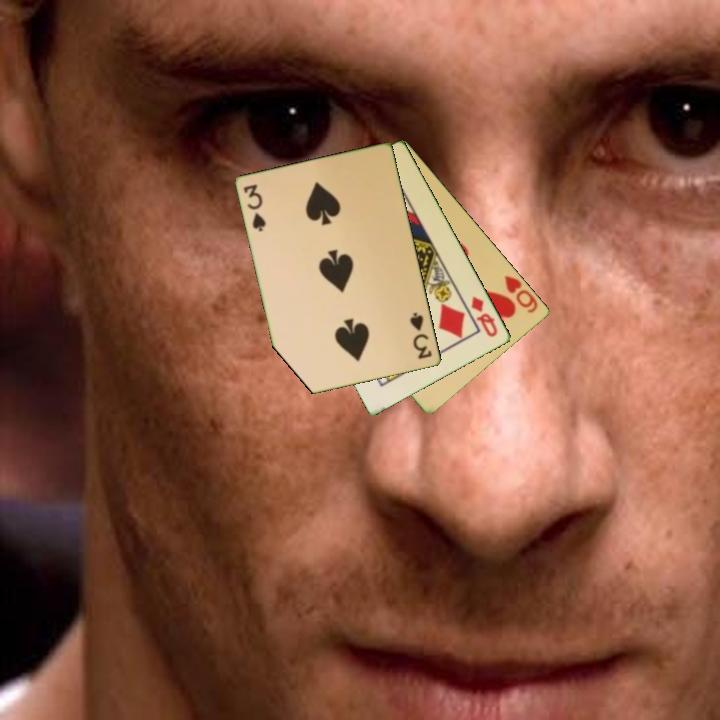3s: (240, 181, 269, 235), (407, 309, 435, 362)
6h: (501, 272, 541, 316)
Qd: (468, 293, 501, 340)
